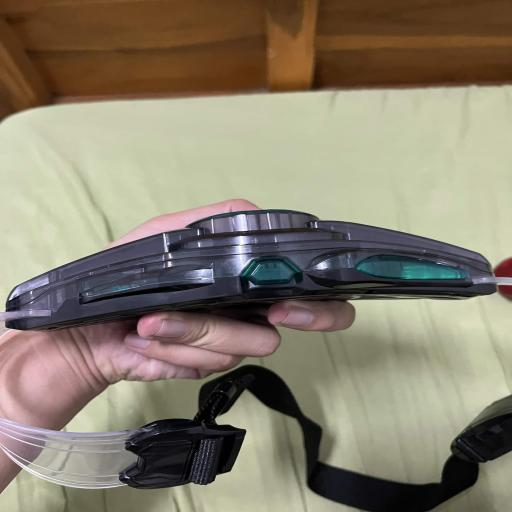zeztzdriver: (6, 210, 498, 330)
